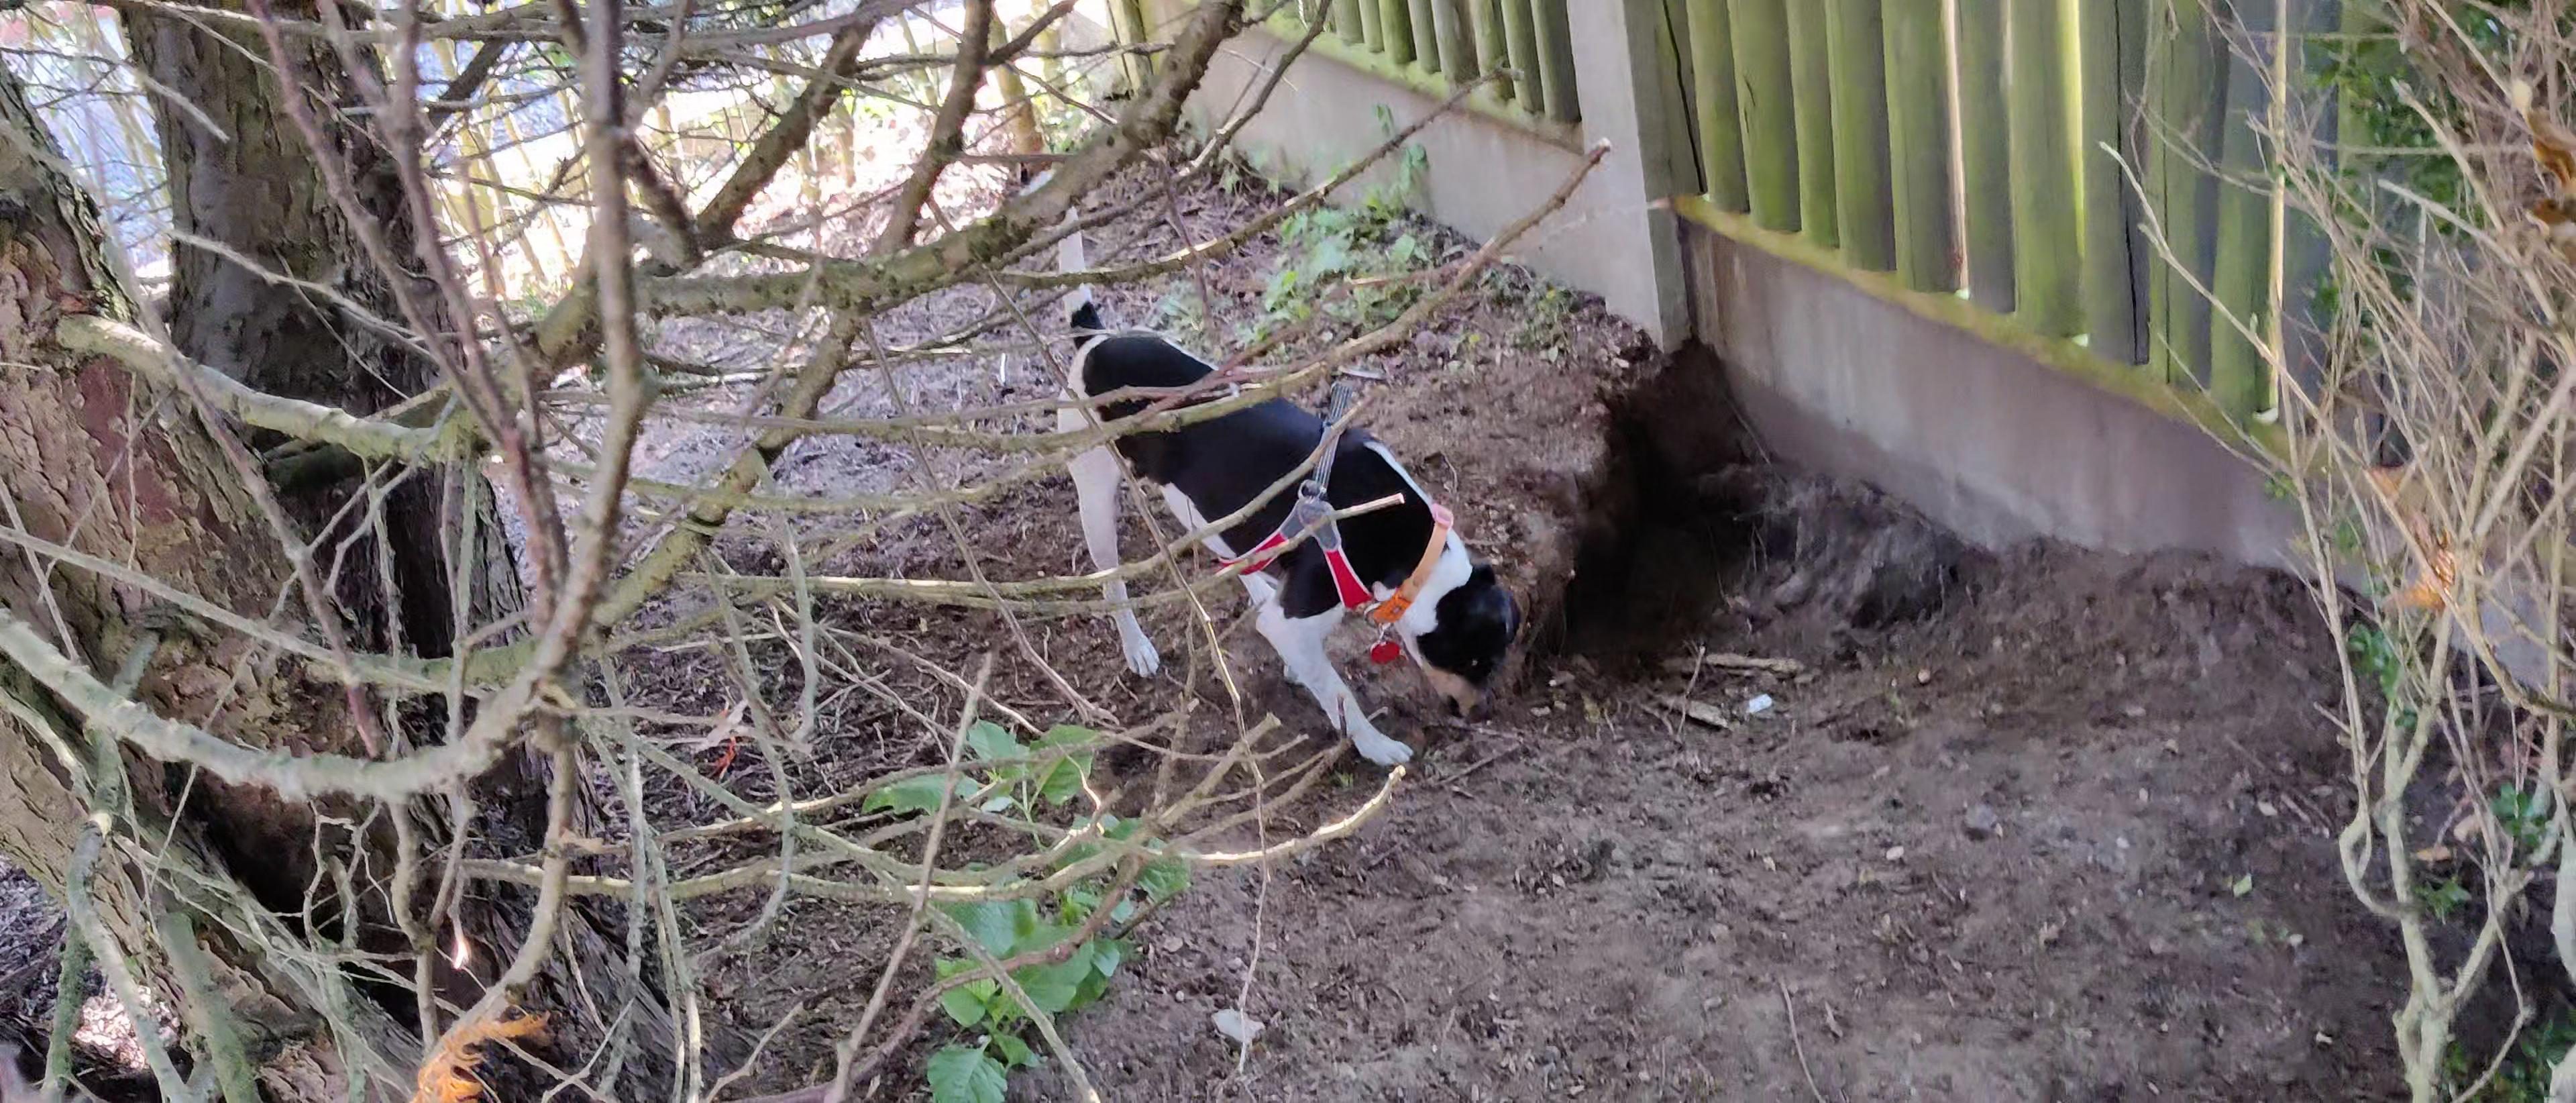Dog: (996, 151, 1528, 779)
